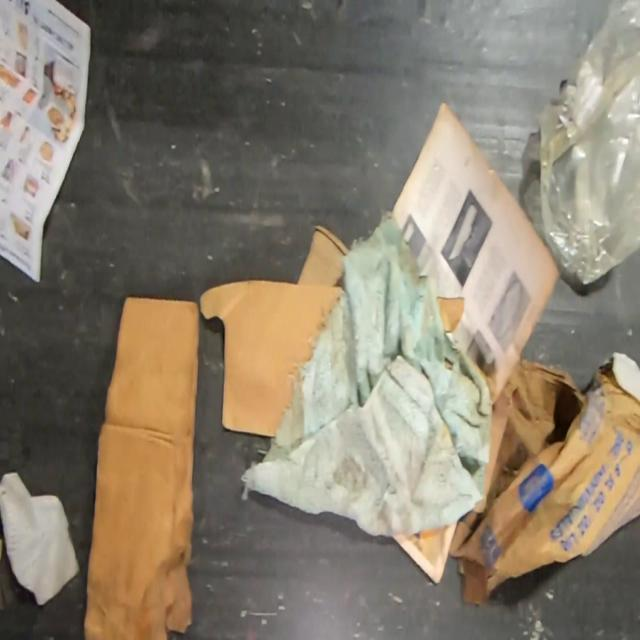cardboard: (47, 294, 202, 640), (448, 351, 640, 608), (197, 223, 351, 438)
soft_plastic: (530, 0, 639, 288)
